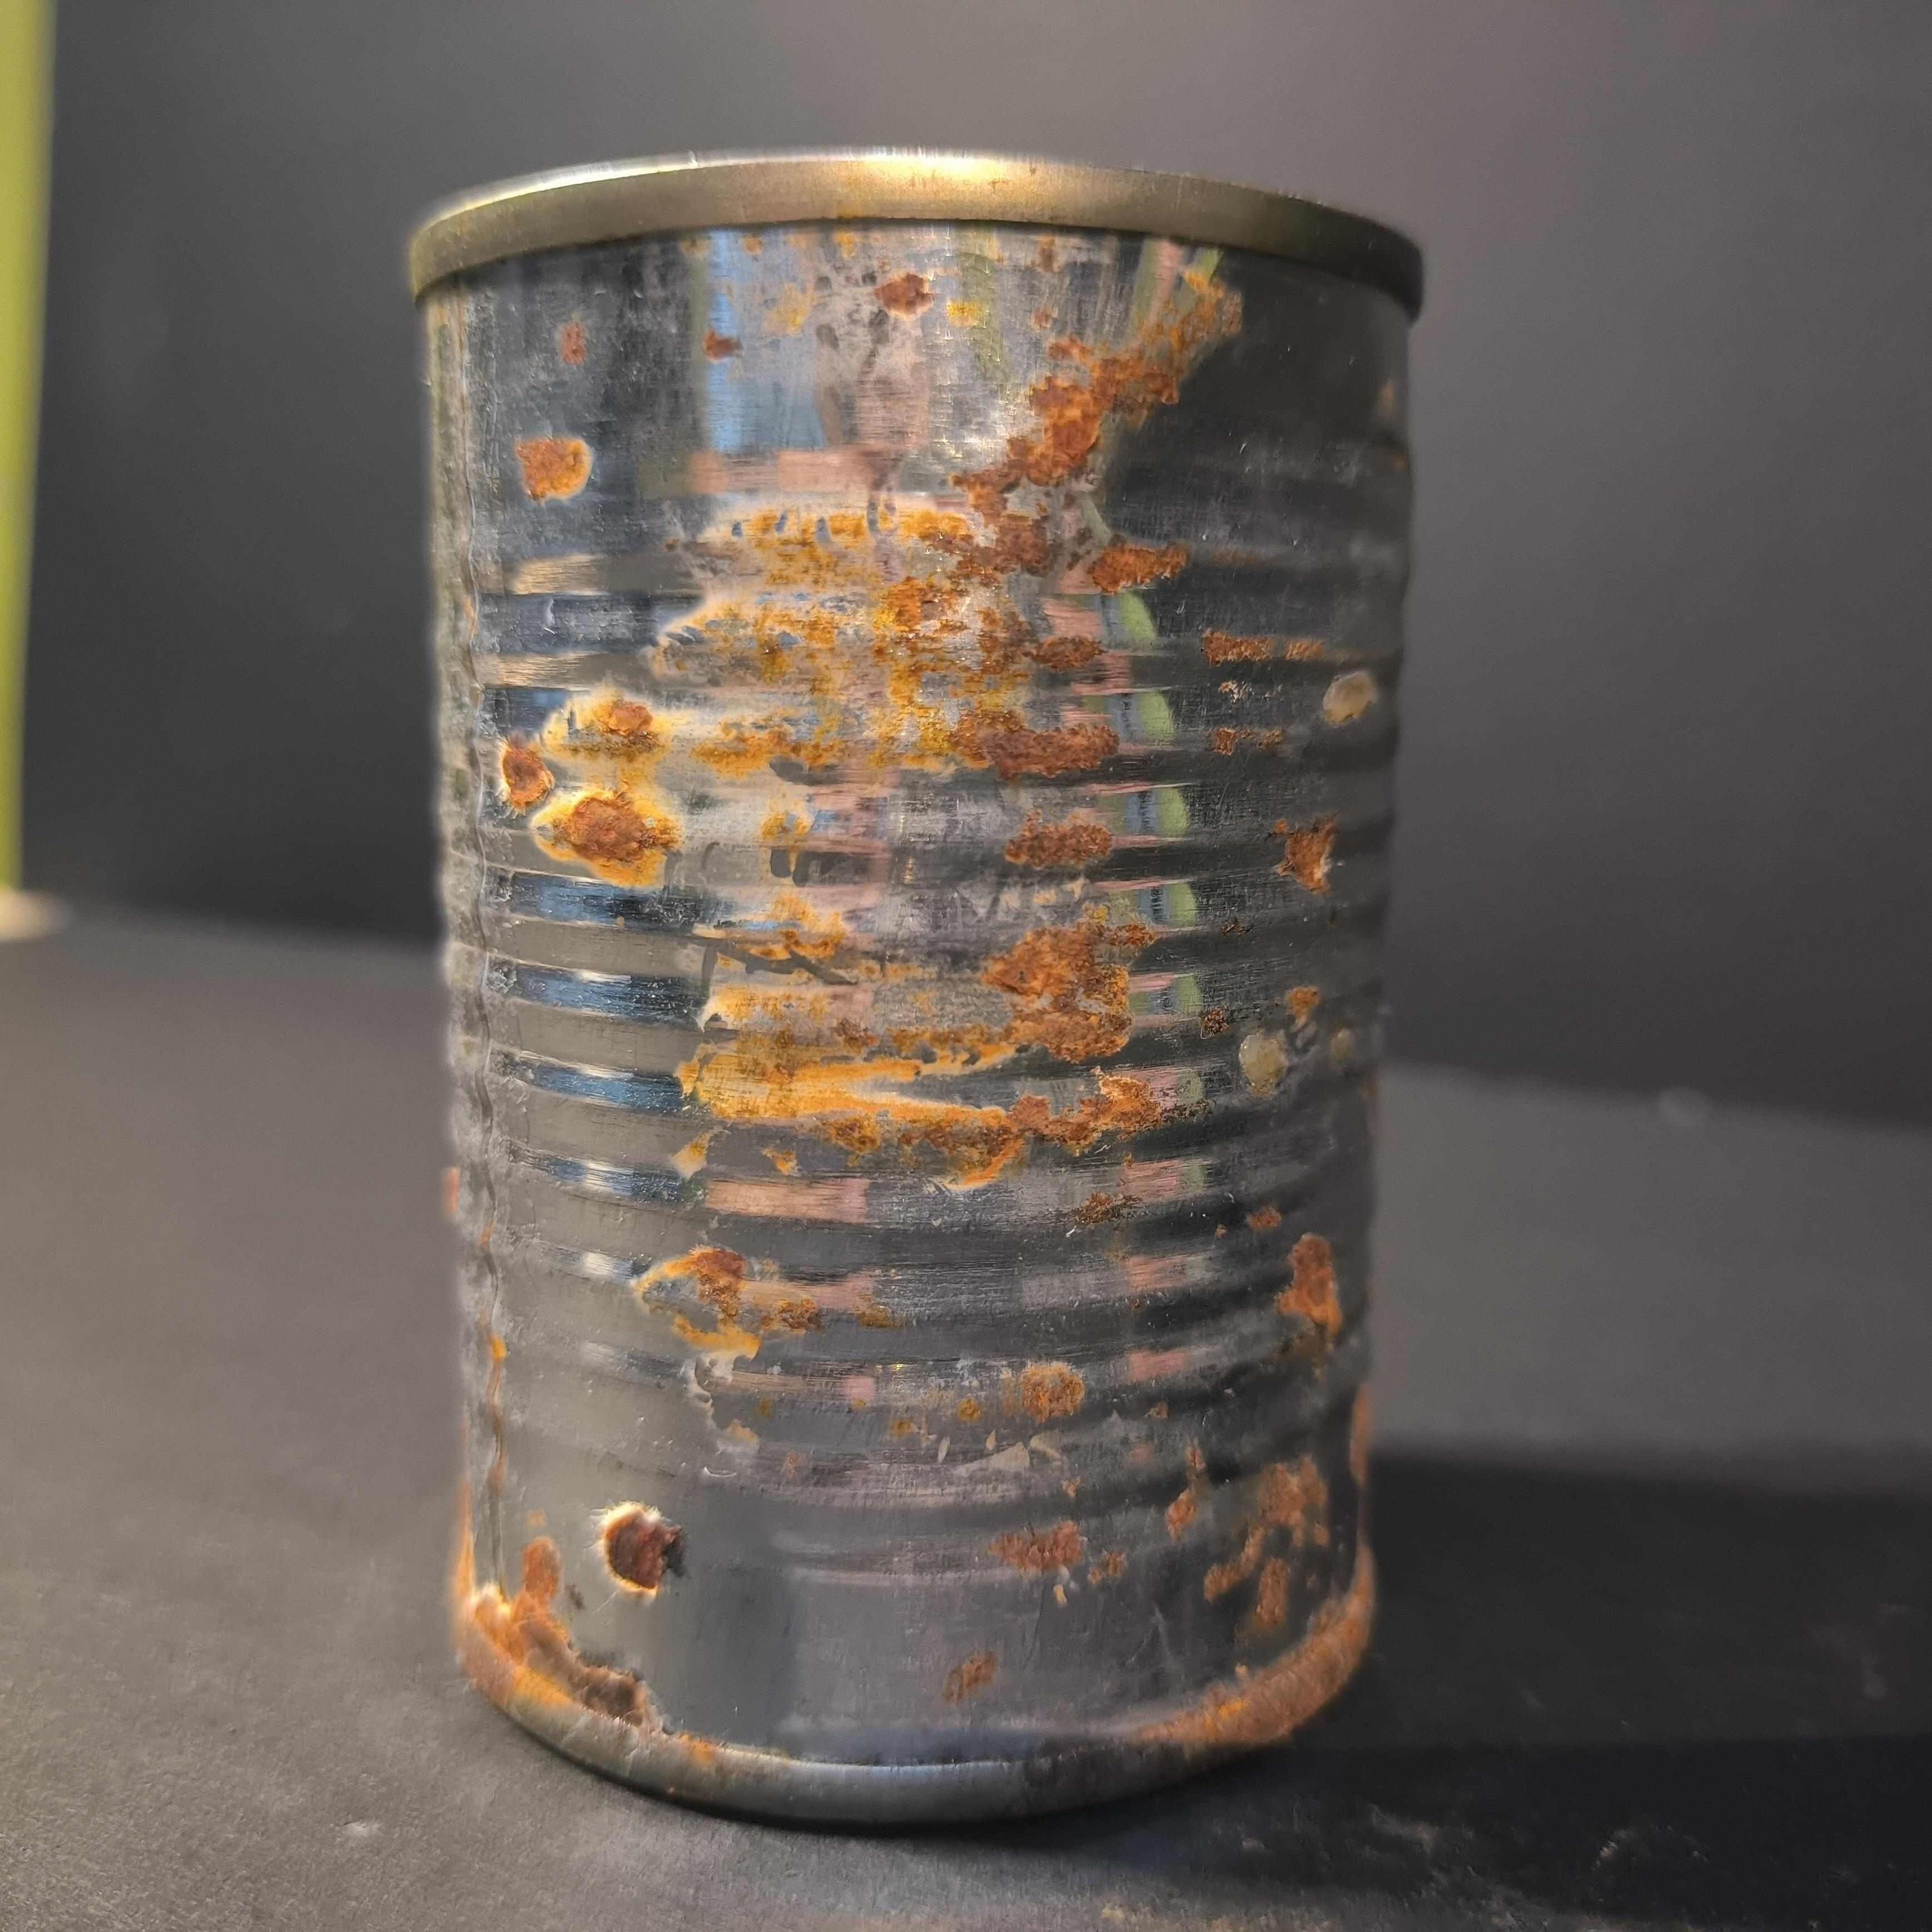Rusted: (389, 120, 1408, 1845)
